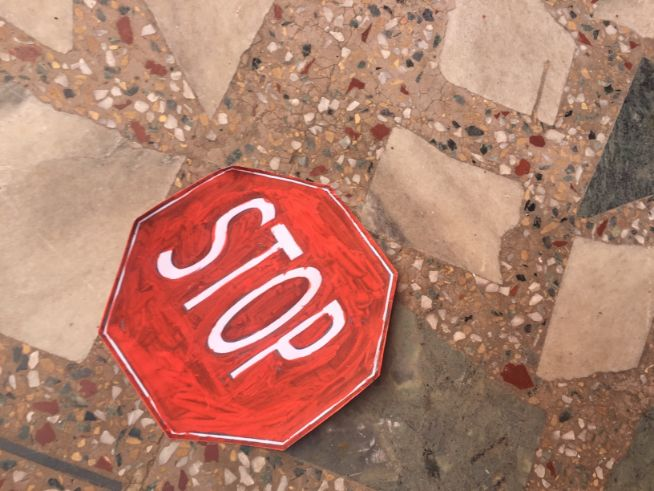stop: (101, 165, 396, 450)
